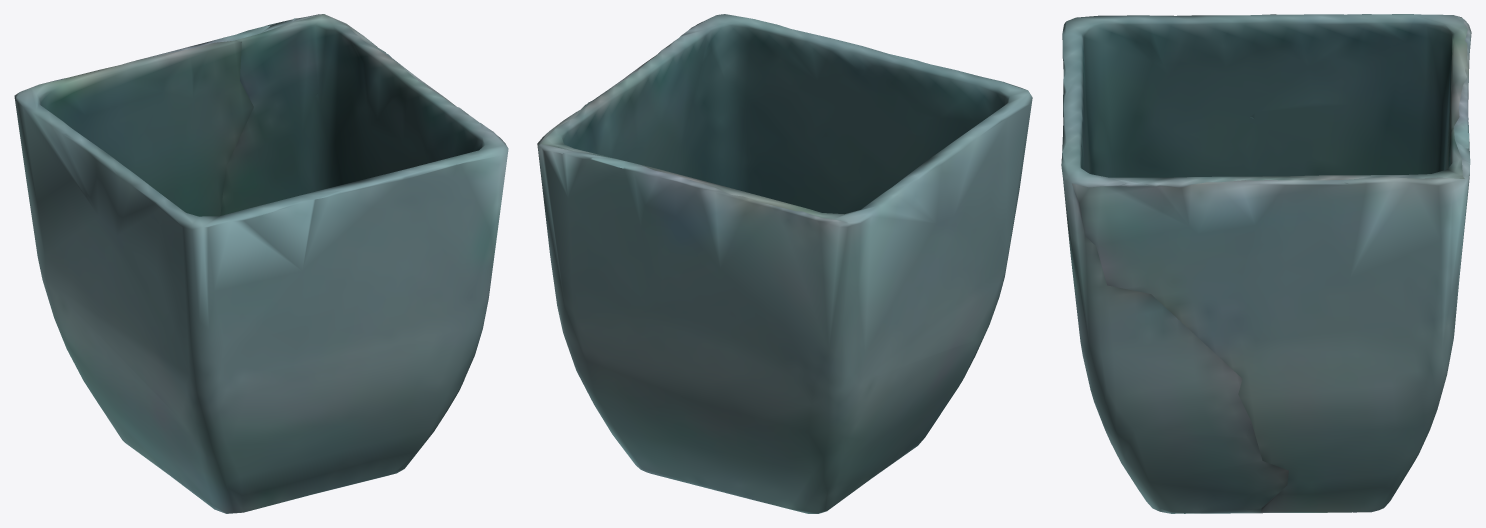
The model's file is Ecoforms_Plant_Container_QP_Turquoise-medium.glb.
3 renders of one model, left to right at view 1: azimuth 30°, elevation 25°; view 2: azimuth 150°, elevation 25°; view 3: azimuth 270°, elevation 25°, orthographic. The views are drawn at different scales.
Parts seen in each view (by area): view 1: Ecoforms_Plant_Container_QP_Turquoise; view 2: Ecoforms_Plant_Container_QP_Turquoise; view 3: Ecoforms_Plant_Container_QP_Turquoise.
Part boxes in pixels (box(x1,y1,x2,y2)): Ecoforms_Plant_Container_QP_Turquoise: box(14, 14, 508, 513); Ecoforms_Plant_Container_QP_Turquoise: box(537, 14, 1032, 513); Ecoforms_Plant_Container_QP_Turquoise: box(1061, 14, 1471, 513).
Size of the model in its own units: 0.0878 by 0.0895 by 0.0882.
1 material, 1 textured.
